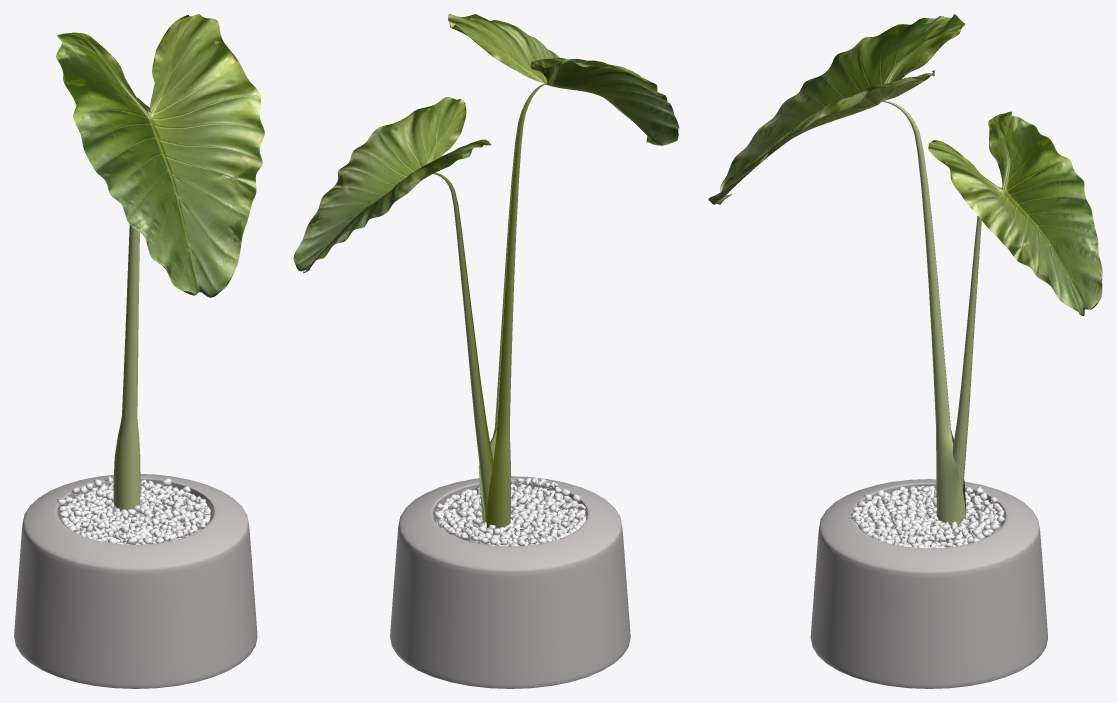
File: Plants03.fbx
3 renders of one model, left to right at view 1: azimuth 30°, elevation 25°; view 2: azimuth 150°, elevation 25°; view 3: azimuth 270°, elevation 25°, orthographic. The views are drawn at different scales.
Visible parts, largest first — view 1: PLANTS3; view 2: PLANTS3; view 3: PLANTS3.
Boxes of the visible parts, box(x1,y1,x2,y2) form: PLANTS3: box(14, 14, 264, 688); PLANTS3: box(293, 14, 679, 688); PLANTS3: box(708, 14, 1102, 688).
Bounding box in the file's own units: 50.11 × 118 × 70.39.
